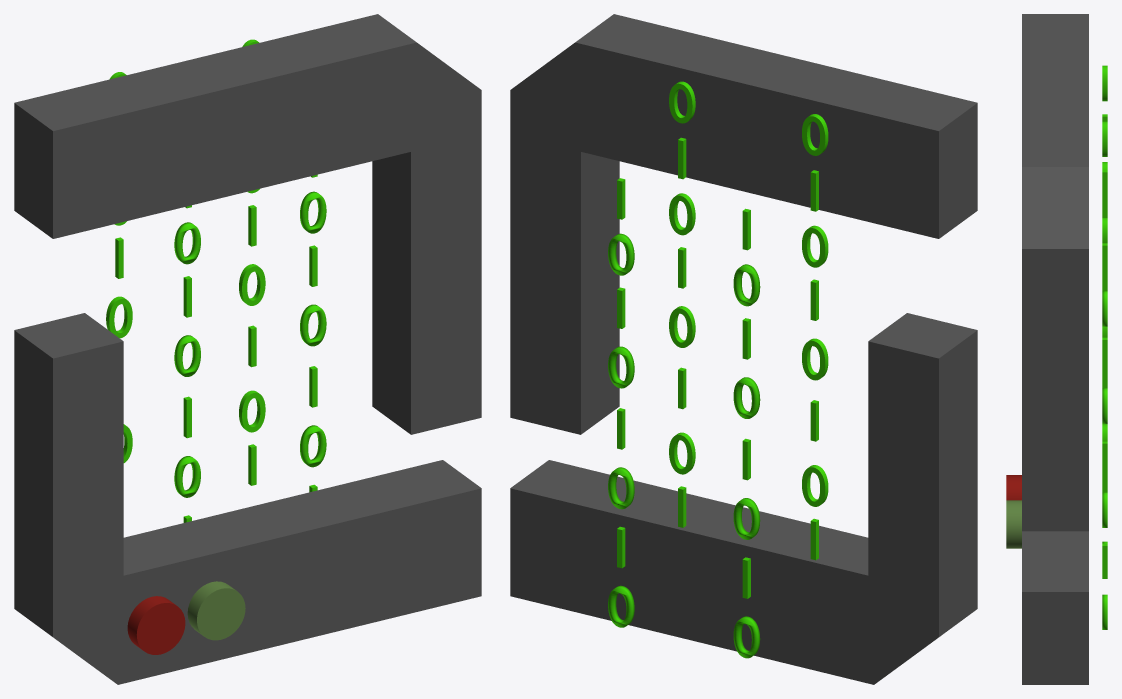
File: itwork_scene_model_1.gltf
3 renders of one model, left to right at view 1: azimuth 30°, elevation 25°; view 2: azimuth 150°, elevation 25°; view 3: azimuth 270°, elevation 25°, orthographic. The views are drawn at different scales.
Visible parts, largest first — view 1: Куб.001, Куб.002, Текст.014, Текст.011, Текст.005, Цилиндр.001, Цилиндр, Текст.020; view 2: Куб.001, Куб.002, Текст.011, Текст.014, Текст.005, Текст.020; view 3: Куб.001, Куб.002, Текст.014, Текст.005, Цилиндр.001, Цилиндр, Текст.020.
Boxes of the visible parts, box(x1,y1,x2,y2) form: Куб.001: box(14, 14, 481, 434); Куб.002: box(14, 313, 481, 684); Текст.014: box(300, 174, 326, 492); Текст.011: box(174, 205, 200, 522); Текст.005: box(239, 39, 265, 485); Цилиндр.001: box(187, 581, 245, 640); Цилиндр: box(127, 596, 185, 654); Текст.020: box(106, 72, 132, 462); Куб.001: box(510, 14, 977, 434); Куб.002: box(510, 313, 977, 684); Текст.011: box(733, 208, 760, 658); Текст.014: box(608, 178, 634, 627); Текст.005: box(669, 81, 695, 527); Текст.020: box(802, 114, 828, 560); Куб.001: box(1022, 14, 1088, 531); Куб.002: box(1022, 531, 1088, 684); Текст.014: box(1102, 243, 1107, 629); Текст.005: box(1102, 121, 1107, 492); Цилиндр.001: box(1006, 500, 1021, 548); Цилиндр: box(1006, 475, 1021, 500); Текст.020: box(1102, 65, 1107, 170).
Size of the model in its own units: 12.73 by 16.17 by 3.03.
